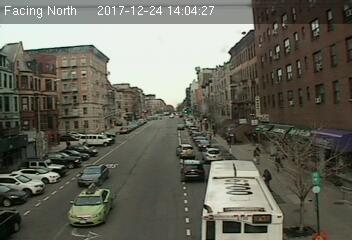bus: (200, 160, 281, 240)
car: (67, 184, 114, 225), (77, 163, 109, 186), (179, 157, 206, 182), (202, 147, 223, 161), (176, 144, 195, 157)
